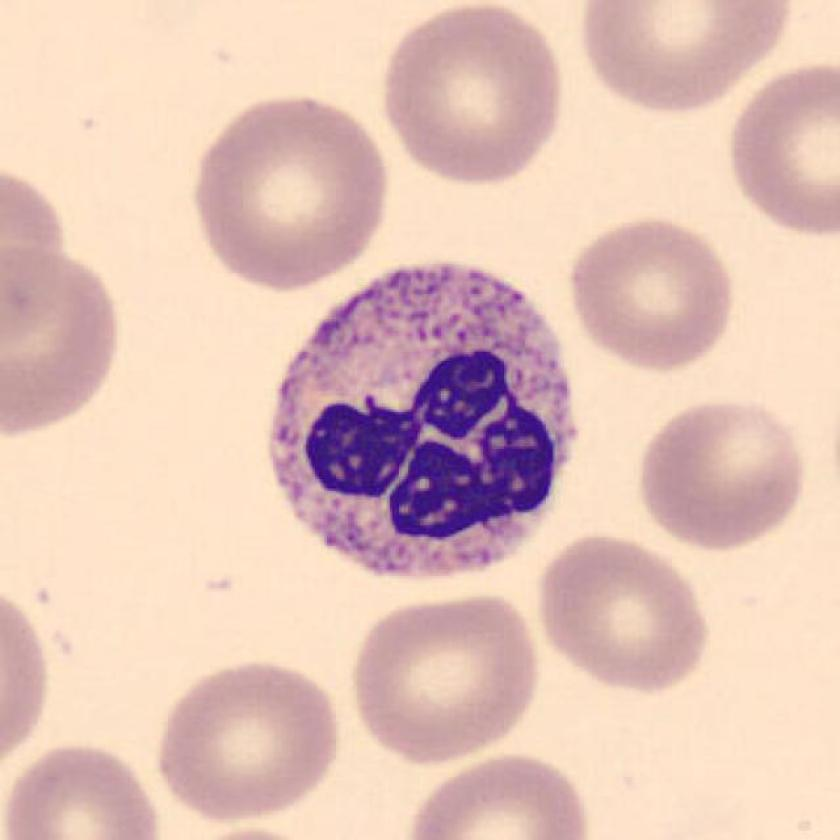neutrophil: (272, 268, 575, 578)
